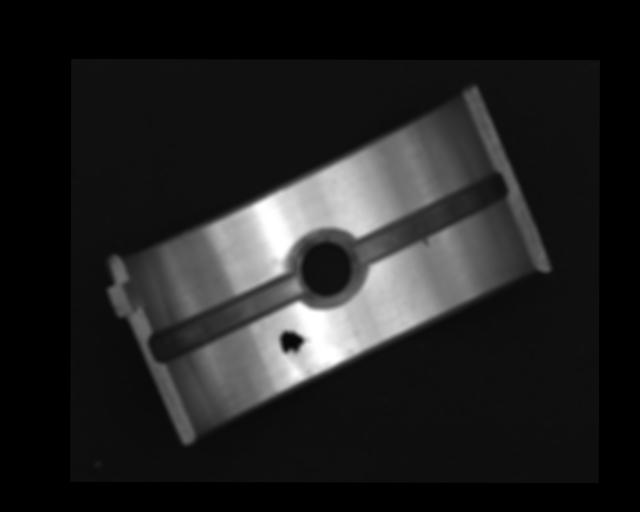blot: (278, 329, 310, 362)
bruise: (420, 237, 430, 248)
gap: (356, 173, 507, 266), (150, 277, 300, 364)
hole: (294, 232, 361, 304)
